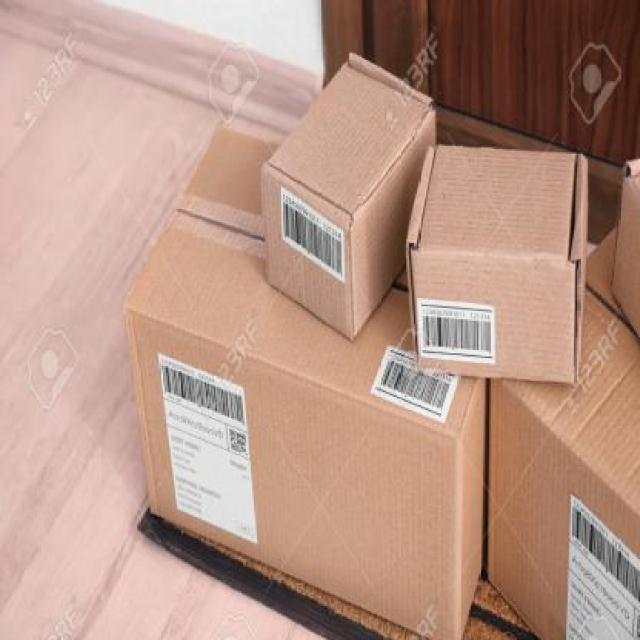box: (118, 116, 495, 640), (481, 246, 640, 639), (261, 43, 439, 349), (403, 130, 586, 392)
